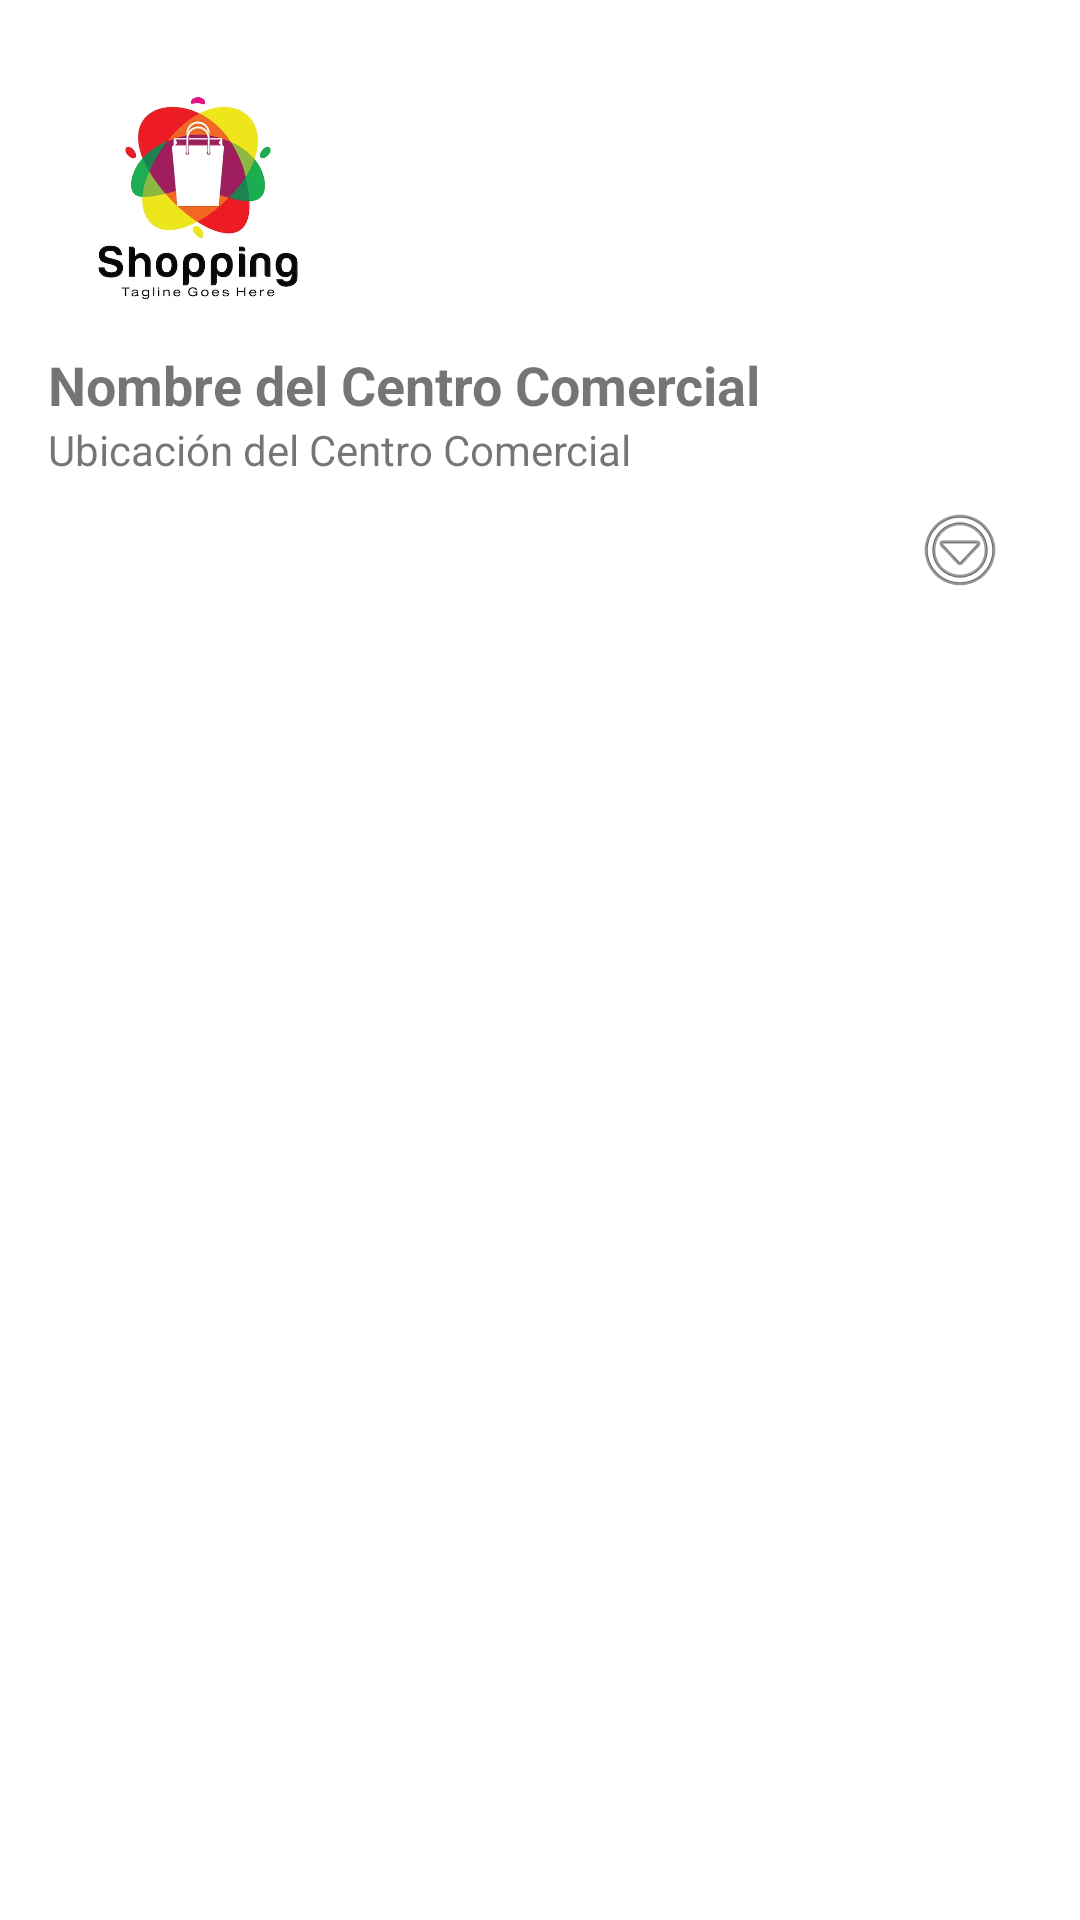

Icon bounding boxes for this 1080×1920 phone screenshot, format (x1, y1, x2, y2):
Menú de opciones: (924, 514, 996, 586)
